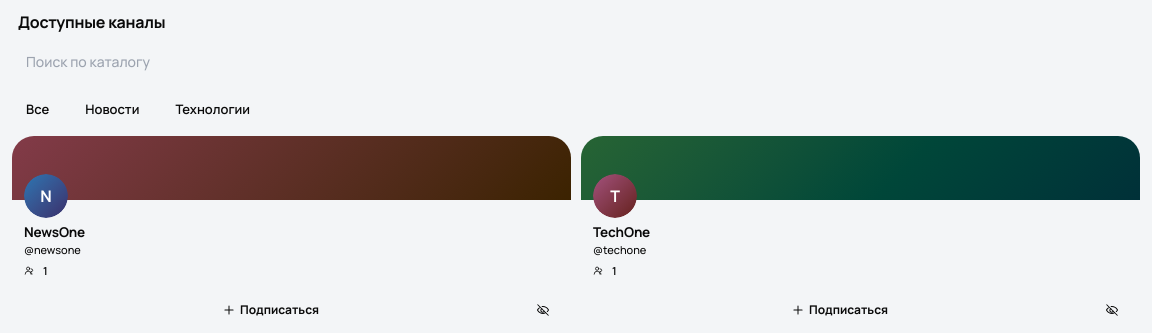
Test: ChannelCatalogSection › renders category tabs and forwards the active one as category
Expected: the tab "Все" is shown, [12,95,63,124]
Expected: the text "NewsOne" is shown, [24,223,85,241]
Click the tab "Технологии": click(213, 110) [161,95,264,124]
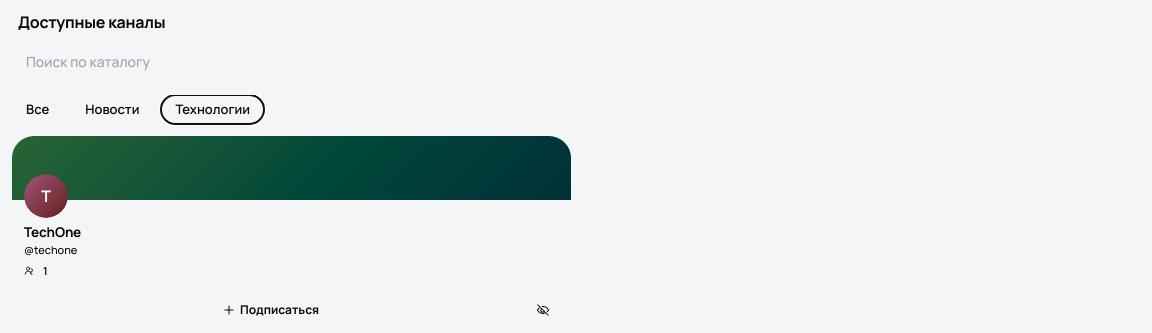
Expected: the text "TechOne" is shown, [24,223,81,241]
Expected: the text "NewsOne" is gone
Note: «Все» clears the filter.
Click the tab "Все": click(38, 110) [12,95,63,124]
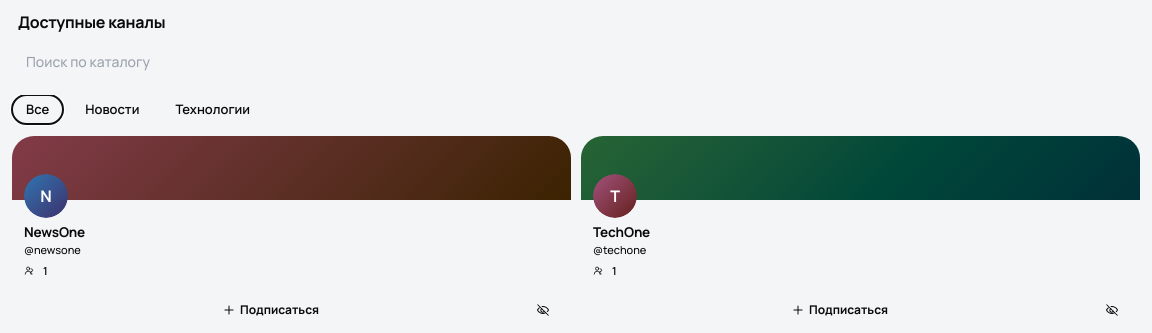
Expected: the text "TechOne" is shown, [593,223,650,241]
Expected: the text "NewsOne" is shown, [24,223,85,241]
